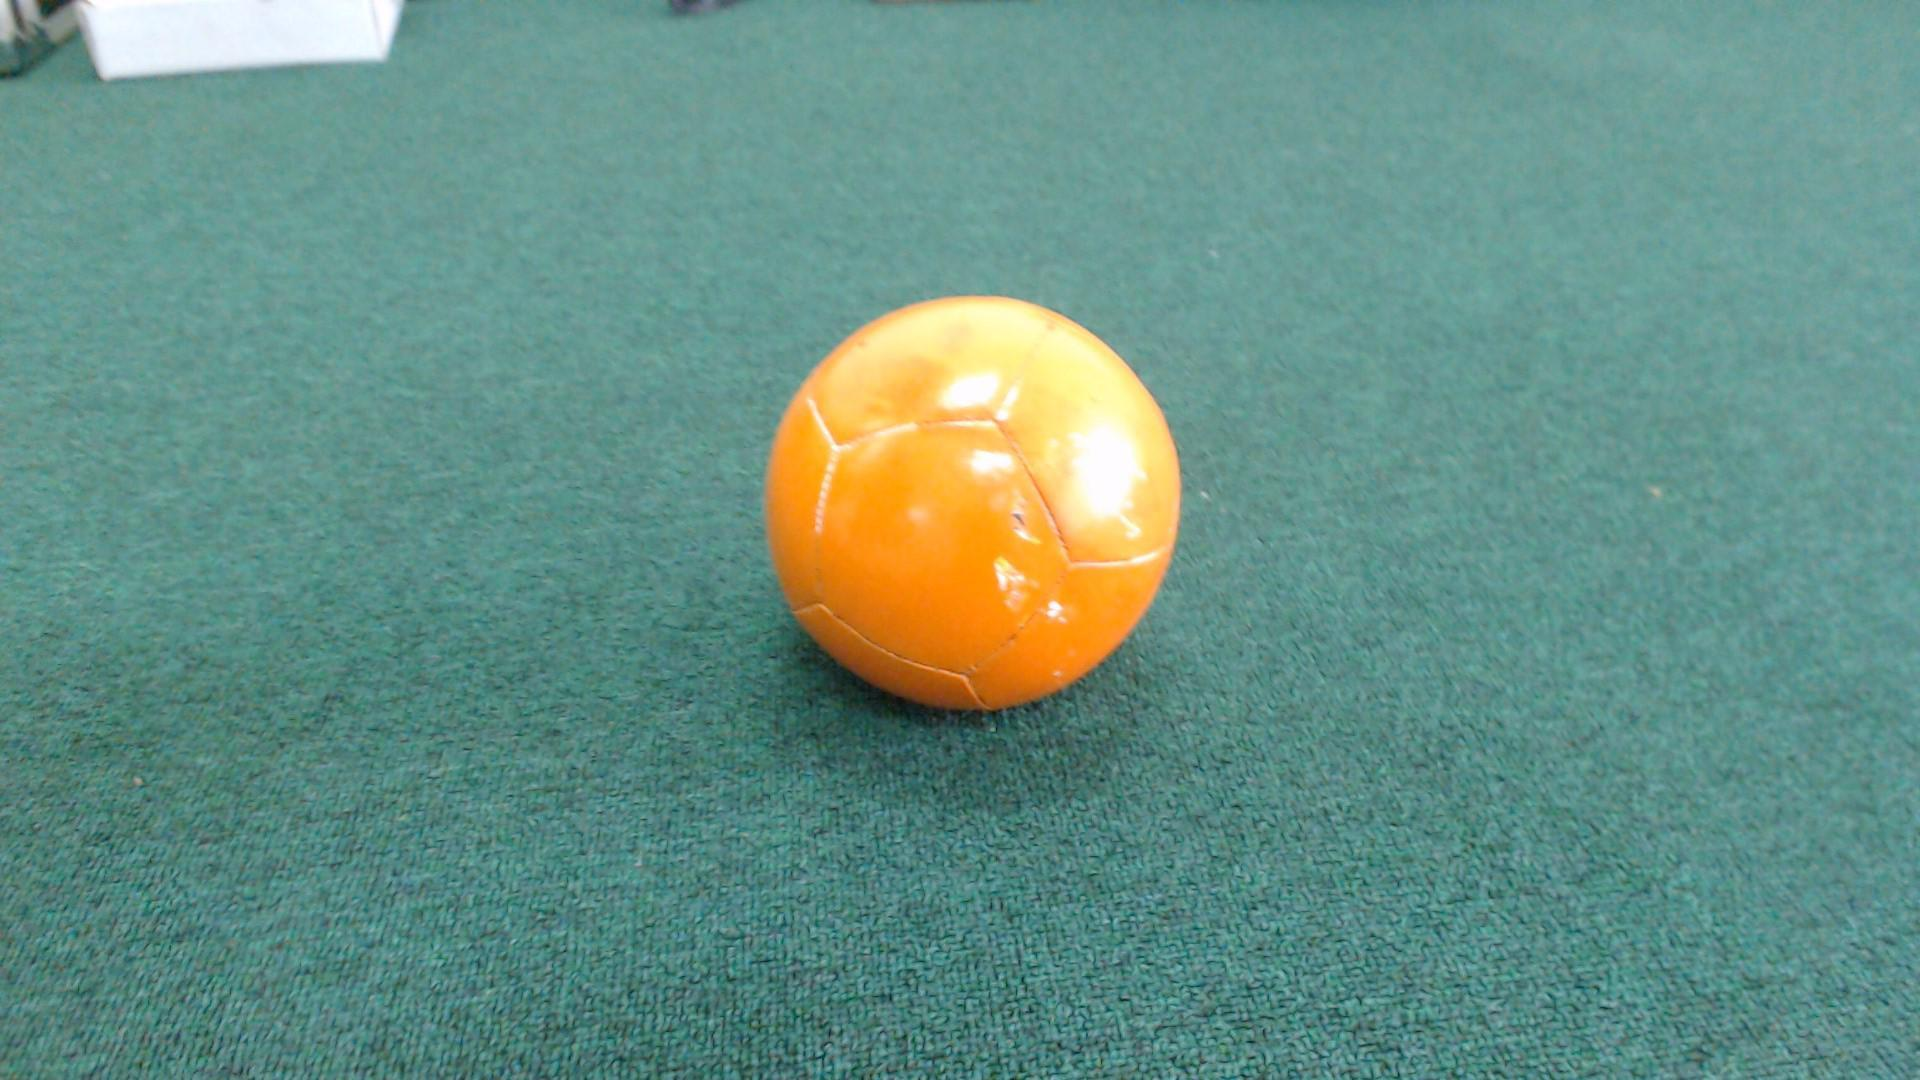bola: (704, 280, 1208, 748)
